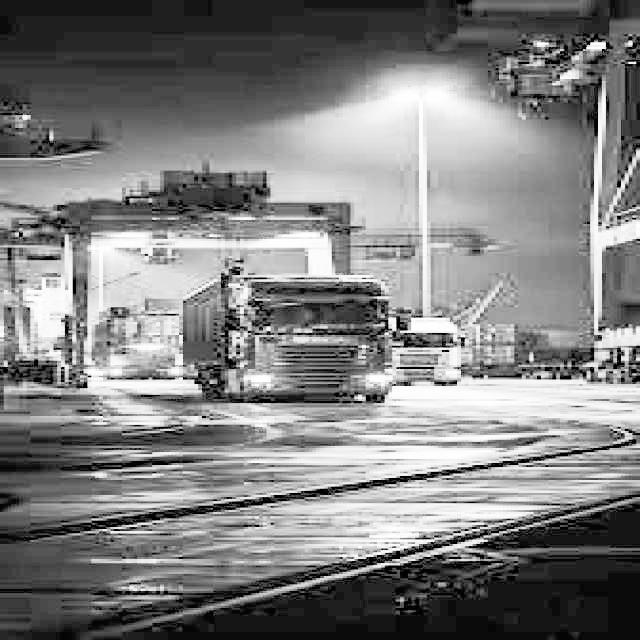Truck: (179, 258, 408, 403), (389, 316, 462, 385)
